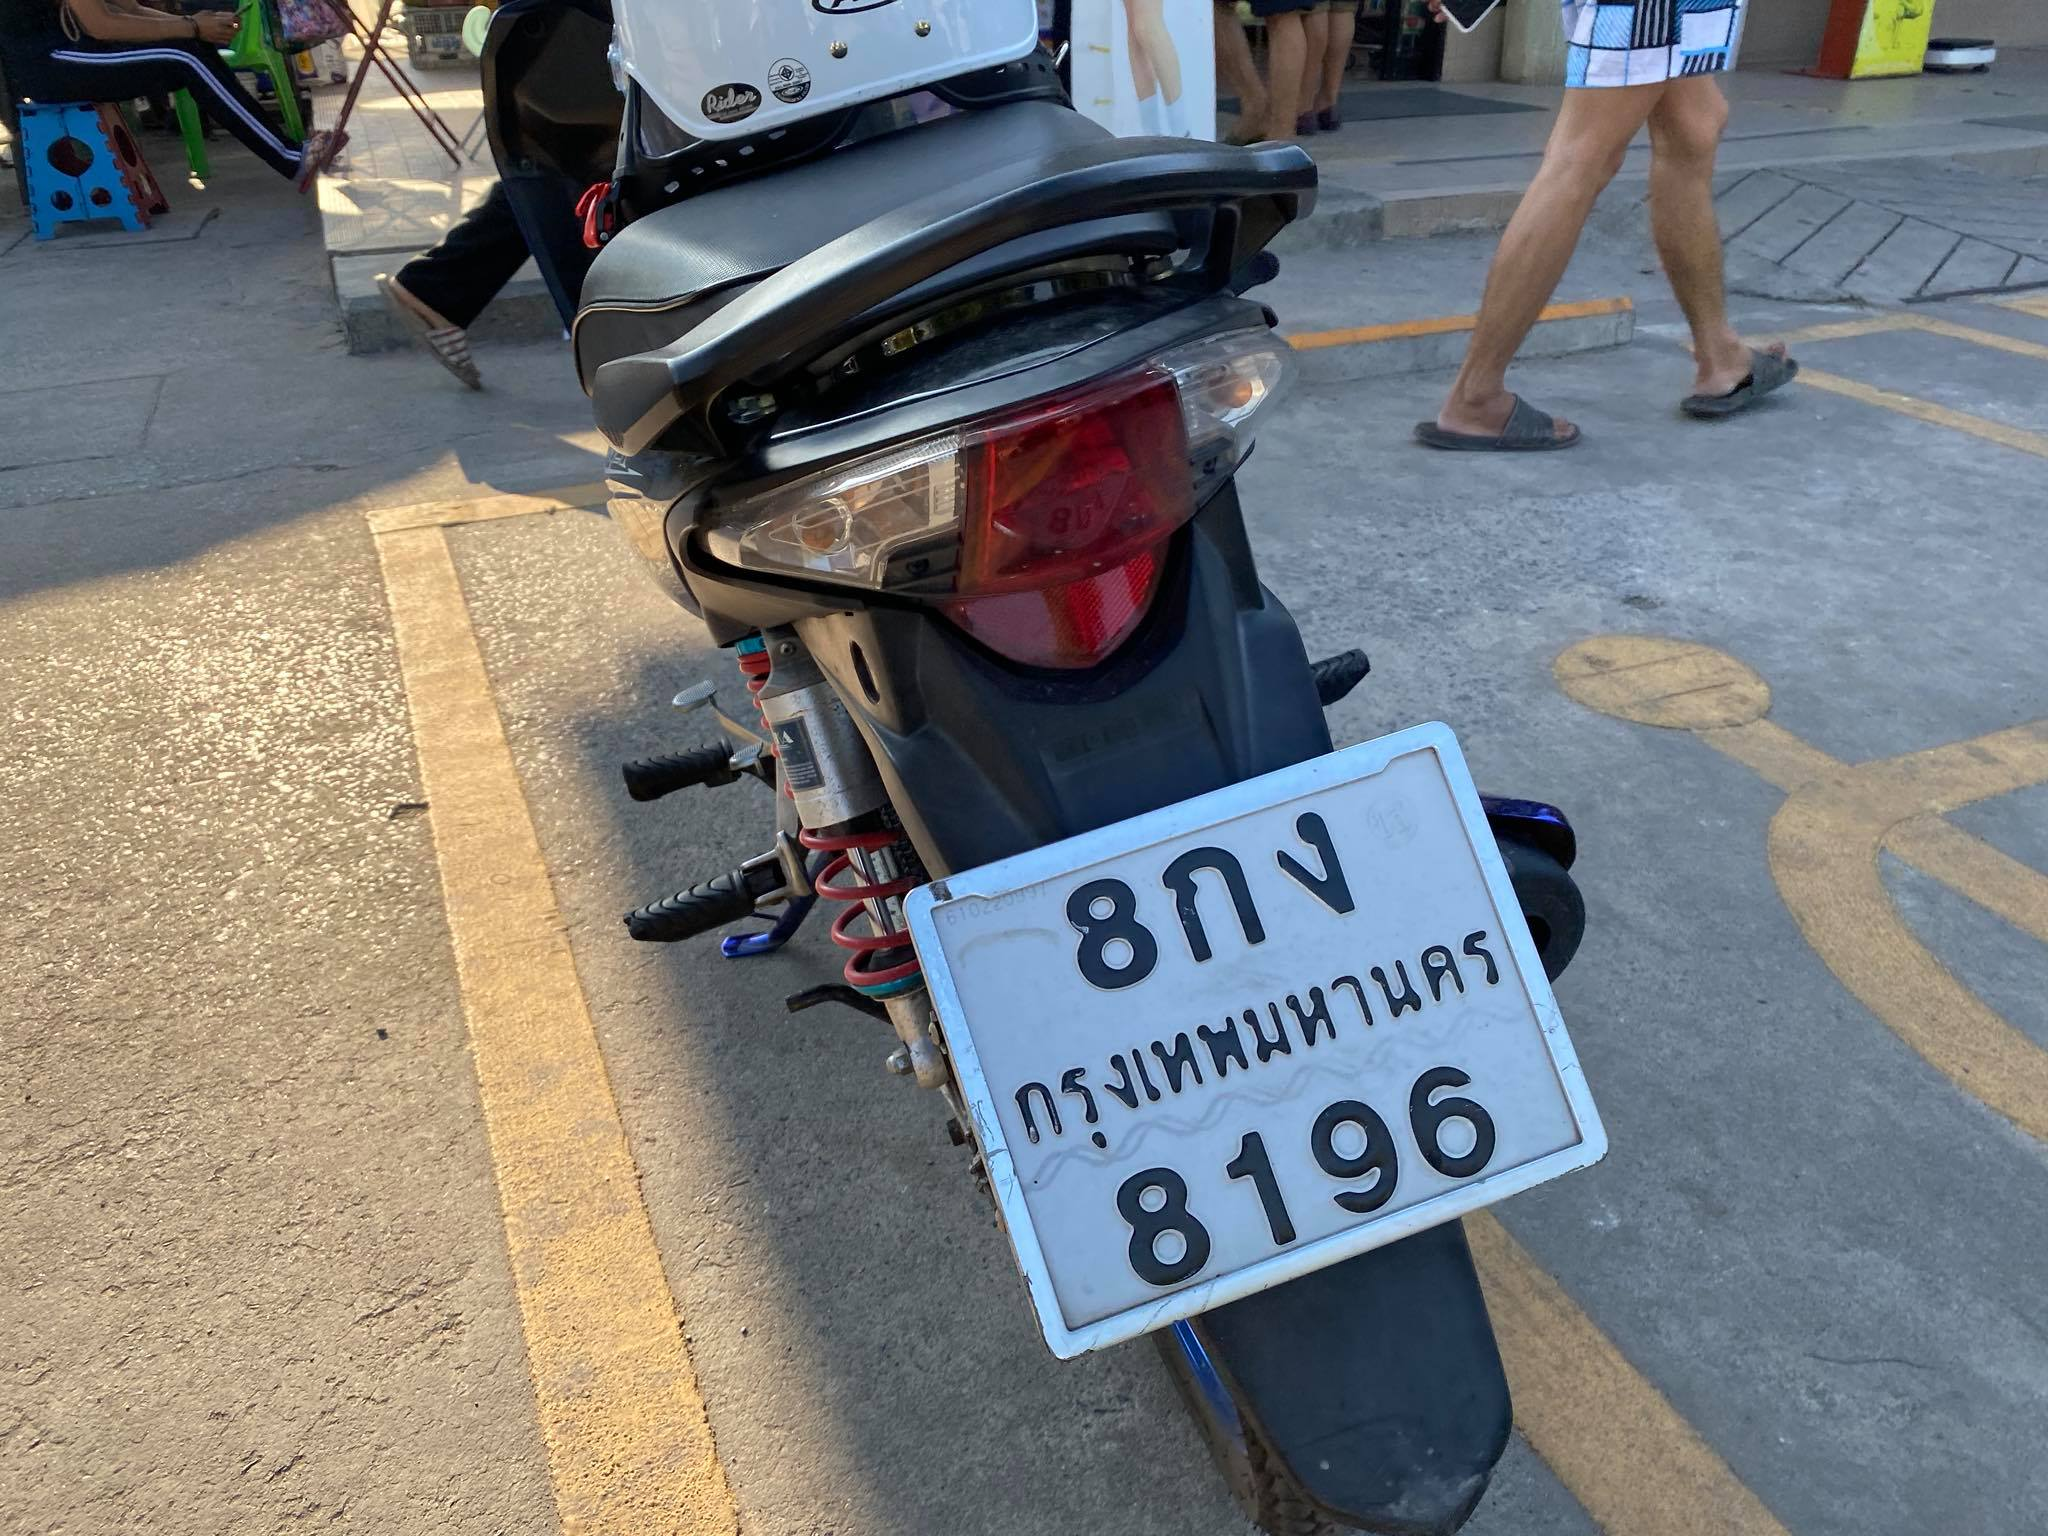line1: (1064, 799, 1355, 992)
line2: (1016, 933, 1506, 1150)
line3: (1118, 1068, 1500, 1296)
